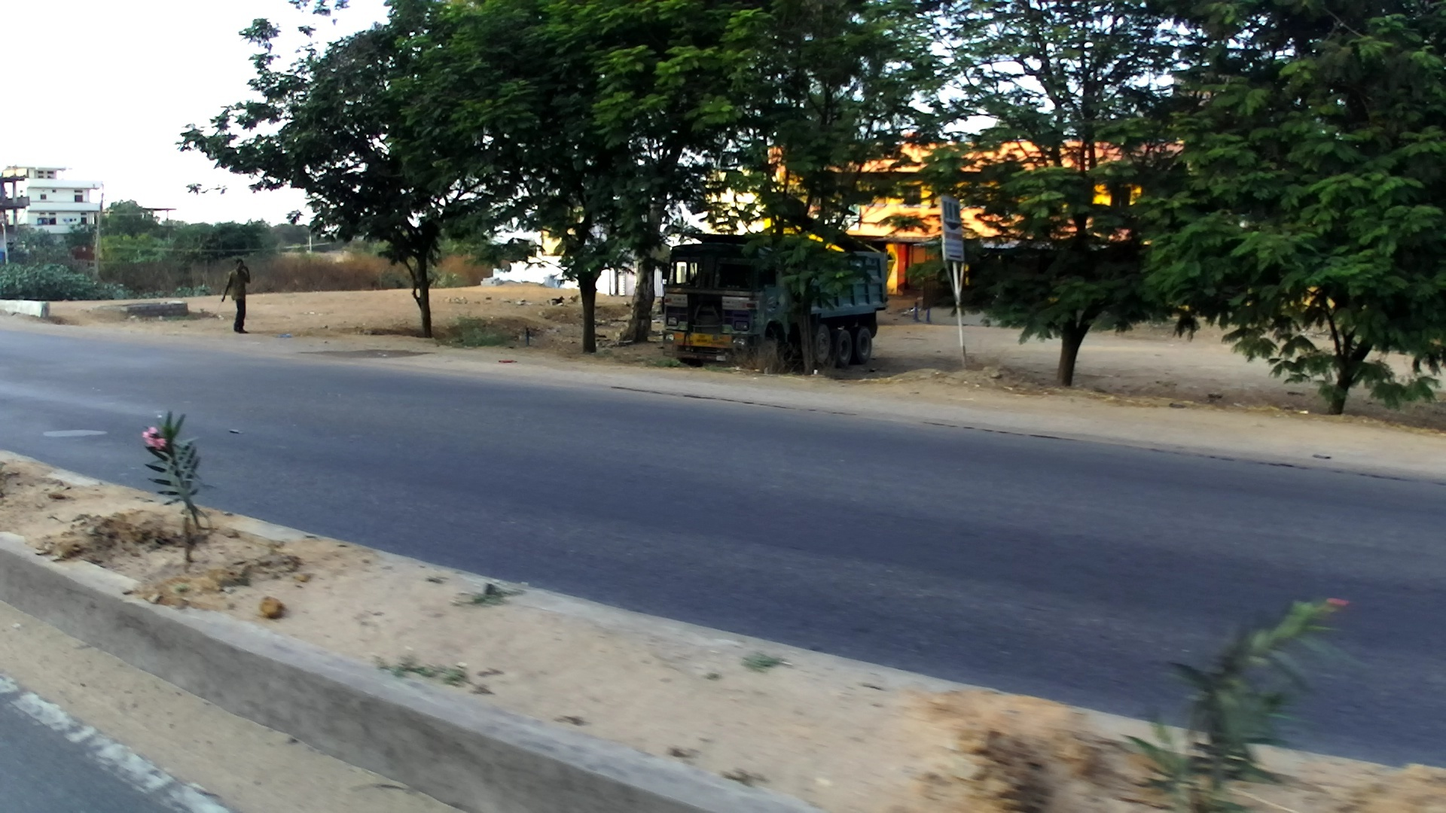person: (222, 258, 254, 335)
truck: (660, 227, 889, 380)
